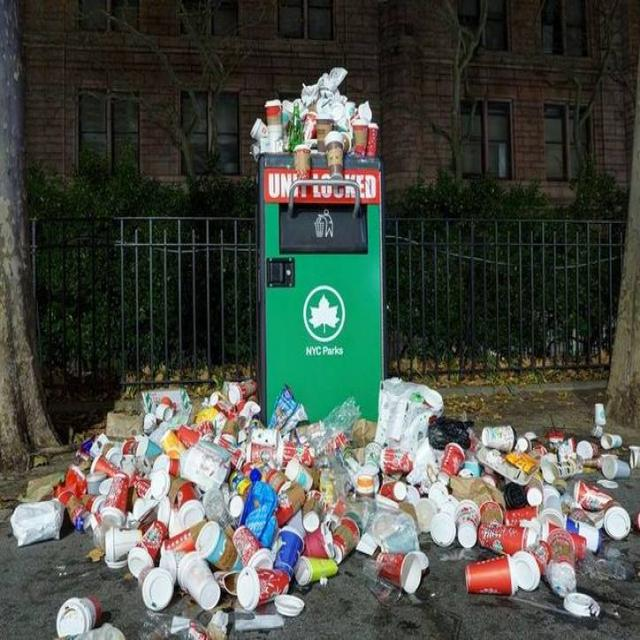garbage: (12, 392, 614, 640), (232, 61, 397, 422)
